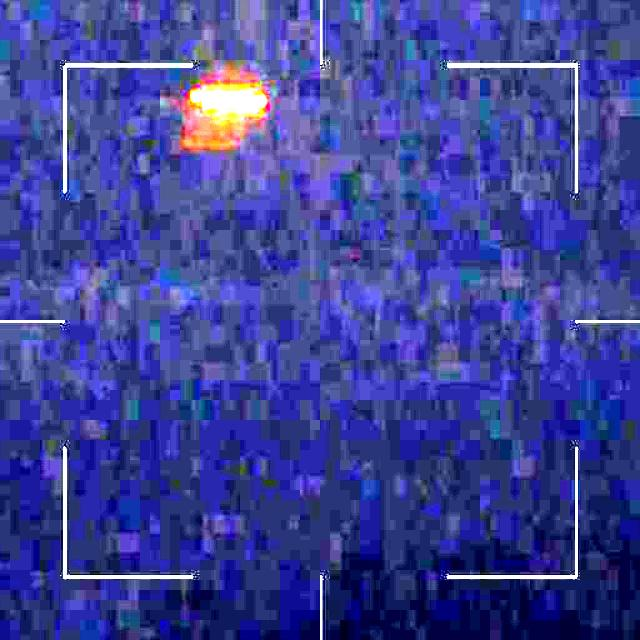bird: (181, 79, 270, 142)
